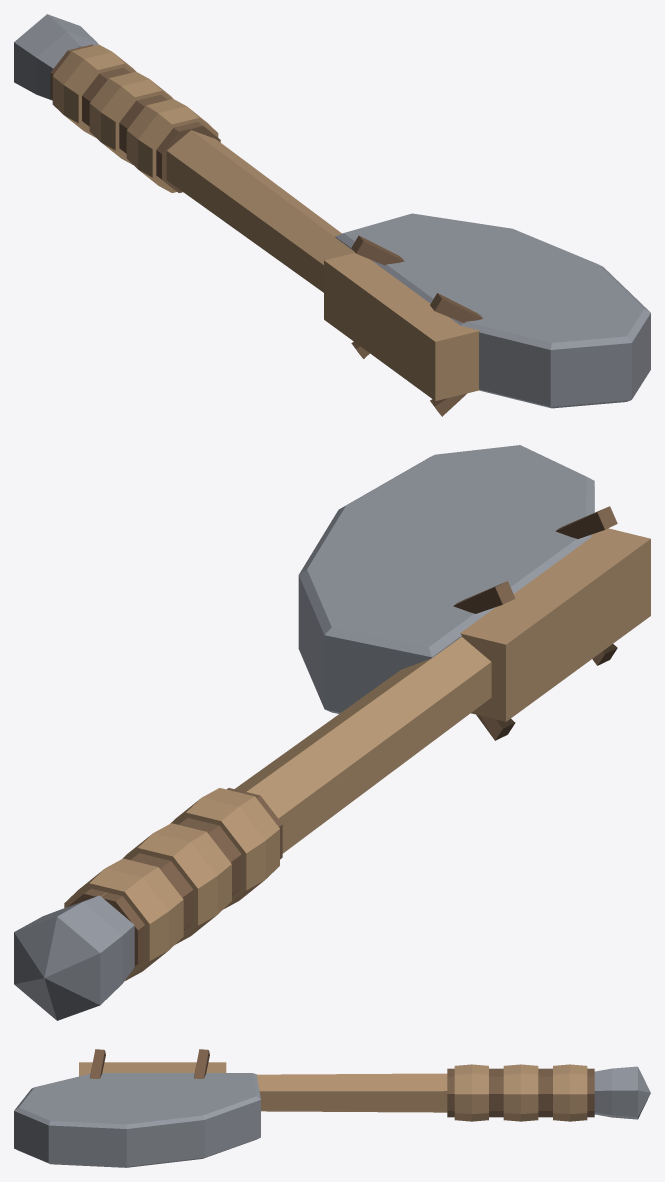
File: stoneaxe.glb
3 renders of one model, top to bottom at view 1: azimuth 30°, elevation 25°; view 2: azimuth 150°, elevation 25°; view 3: azimuth 270°, elevation 25°, orthographic. The views are drawn at different scales.
Parts seen in each view (by area): view 1: stoneaxe; view 2: stoneaxe; view 3: stoneaxe.
Part boxes in pixels (<box>): stoneaxe: <box>14,14,650,416</box>; stoneaxe: <box>14,445,650,1020</box>; stoneaxe: <box>14,1049,650,1167</box>.
Bounding box in the file's own units: 0.1805 × 0.0996 × 0.735.
